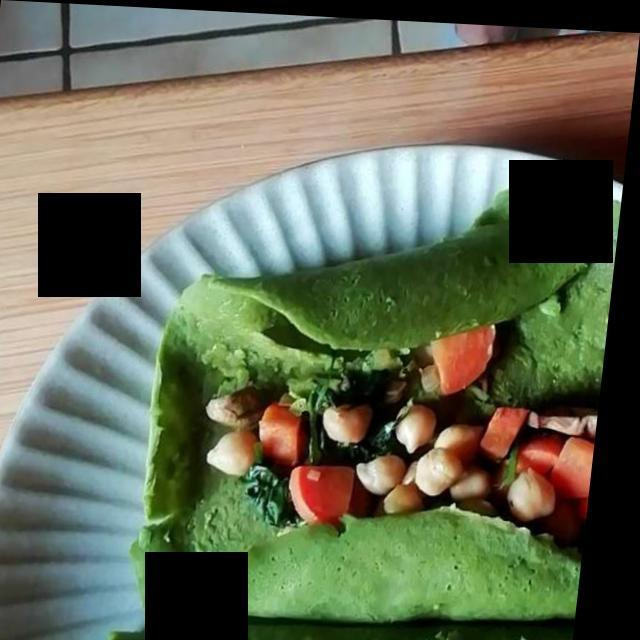carrot: (272, 318, 598, 526)
pancake: (149, 225, 606, 635)
spinach: (246, 342, 421, 531)
